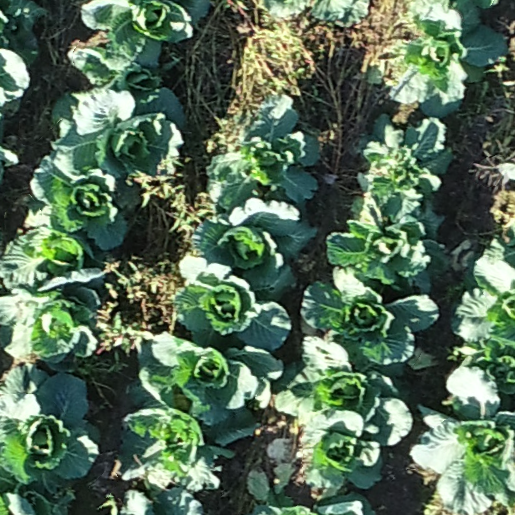Cabbage: (118, 368, 256, 491), (50, 87, 189, 206), (407, 367, 515, 515), (271, 333, 411, 446), (301, 267, 439, 368), (391, 1, 508, 117), (188, 199, 319, 302), (137, 333, 283, 423), (205, 95, 319, 210), (0, 364, 99, 492), (325, 195, 449, 291), (173, 255, 291, 354), (23, 156, 128, 263), (0, 268, 107, 371), (360, 114, 451, 223), (76, 0, 212, 63), (301, 410, 382, 498), (66, 40, 162, 107), (452, 256, 515, 349), (0, 228, 84, 290), (0, 466, 76, 515), (0, 0, 49, 68), (120, 487, 204, 515)
